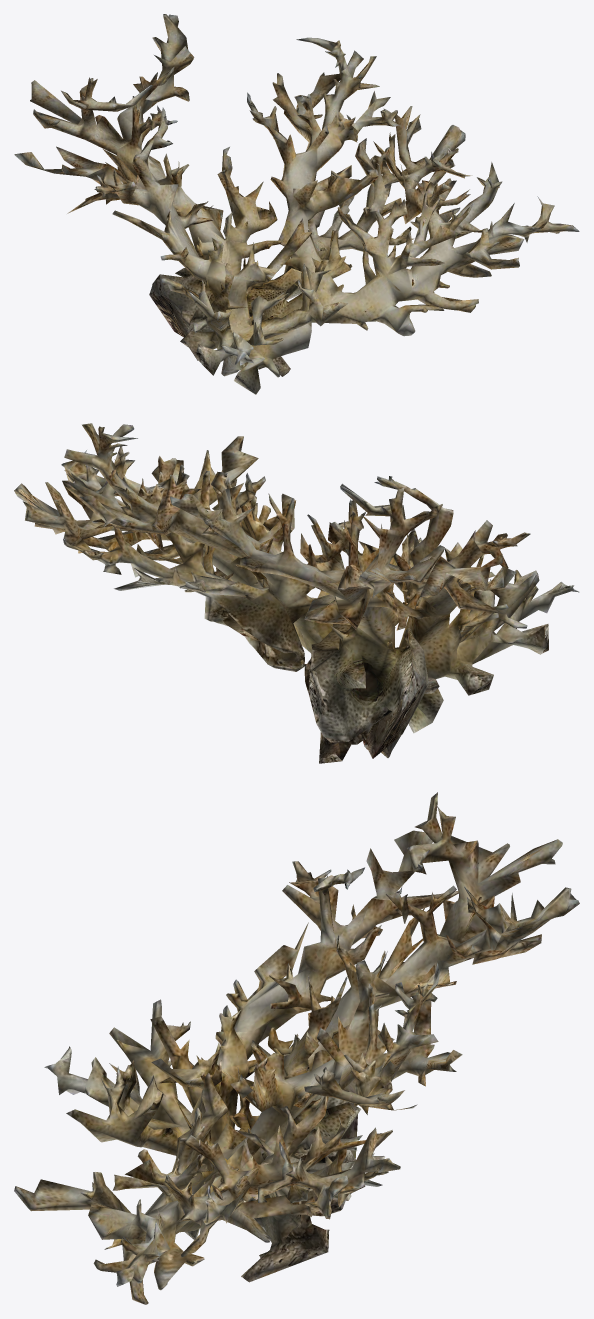
Rendered from coral-pocillopora.glb.
The picture shows the model from 3 angles, top to bottom: view 1: azimuth 30°, elevation 25°; view 2: azimuth 150°, elevation 25°; view 3: azimuth 270°, elevation 25°; orthographic projection. The views are drawn at different scales.
Size of the model in its own units: 0.1837 by 0.1077 by 0.1425.
1 material, 1 textured.
